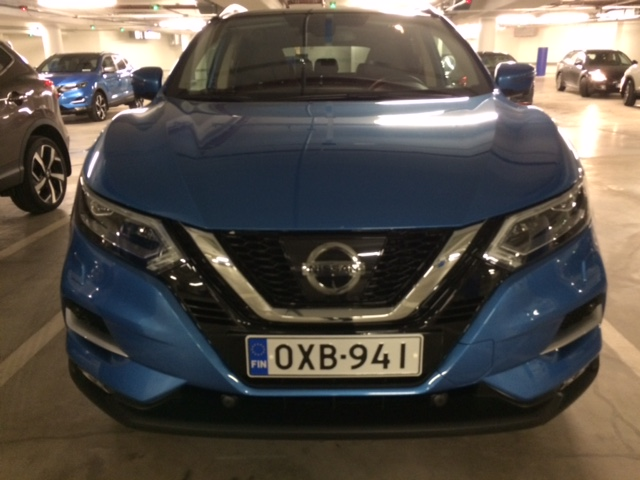license: (245, 336, 422, 384)
